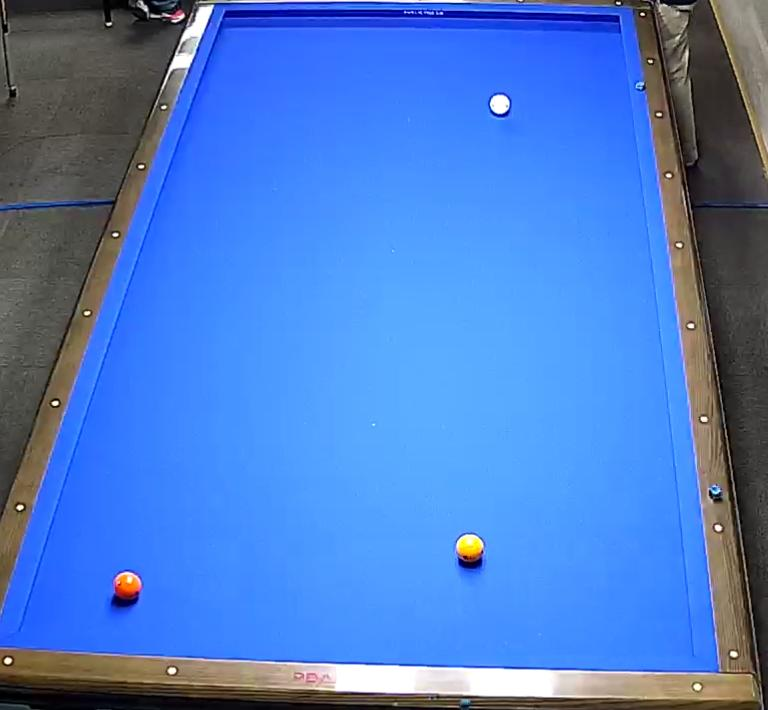orange ball: (105, 569, 146, 614)
white ball: (487, 87, 516, 128)
yellow ball: (447, 525, 490, 576)
